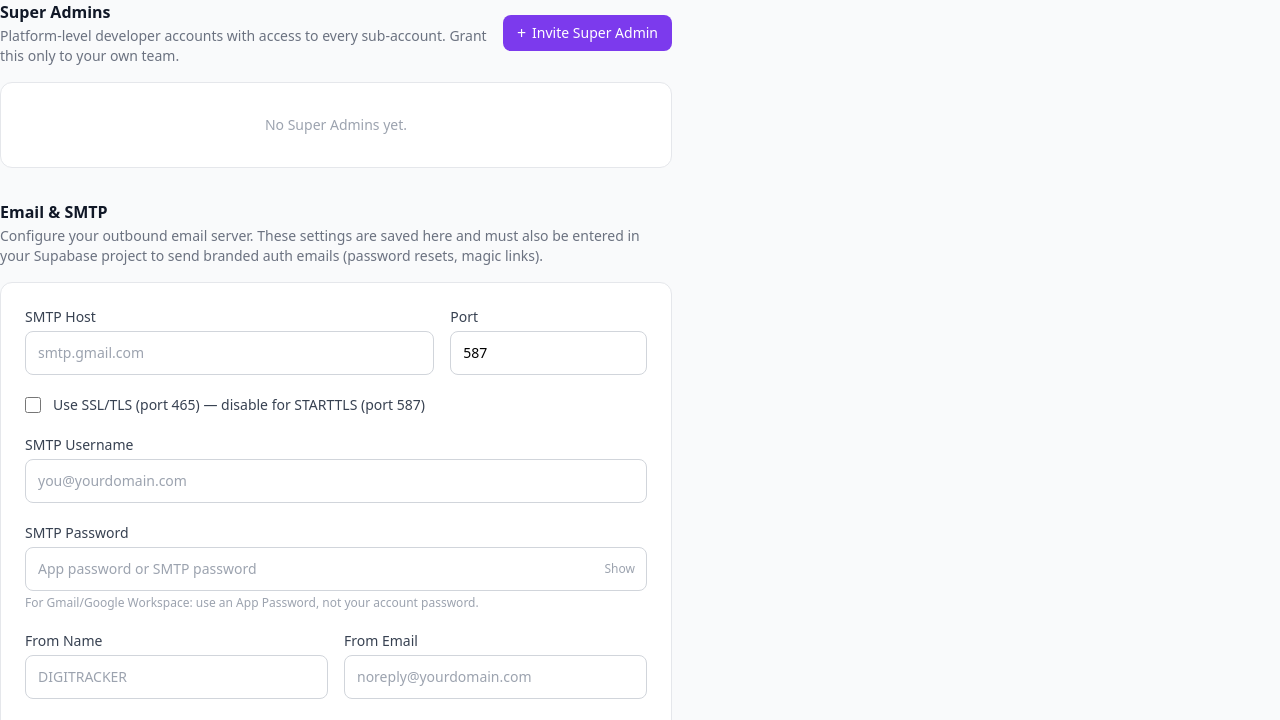
PlatformSettingsTab — invite Super-Admin sends a password-setup link, not a bare magic link › surfaces the invite-staff-user error without claiming the invite succeeded
Click the button "+ Invite Super Admin" at [588, 33], box [503,15,672,51]
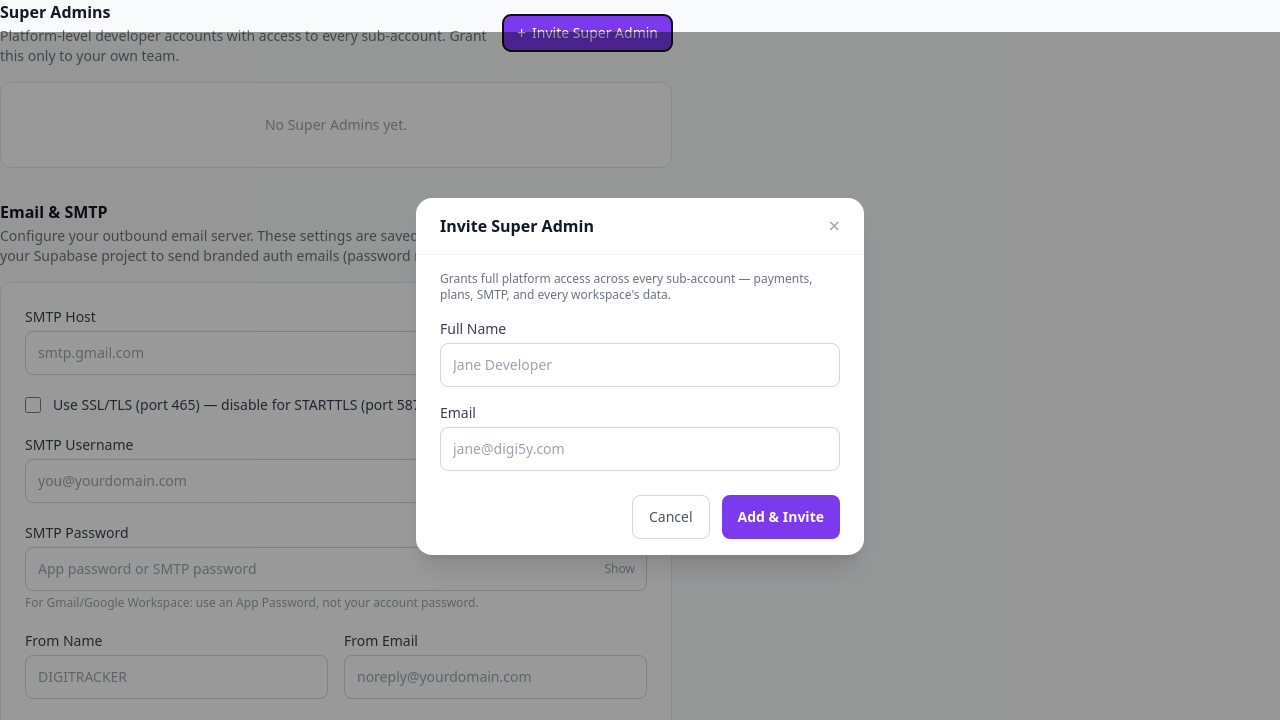
Type "New Root" into the field with placeholder "Jane Developer" at [640, 364], box [440,342,840,386]
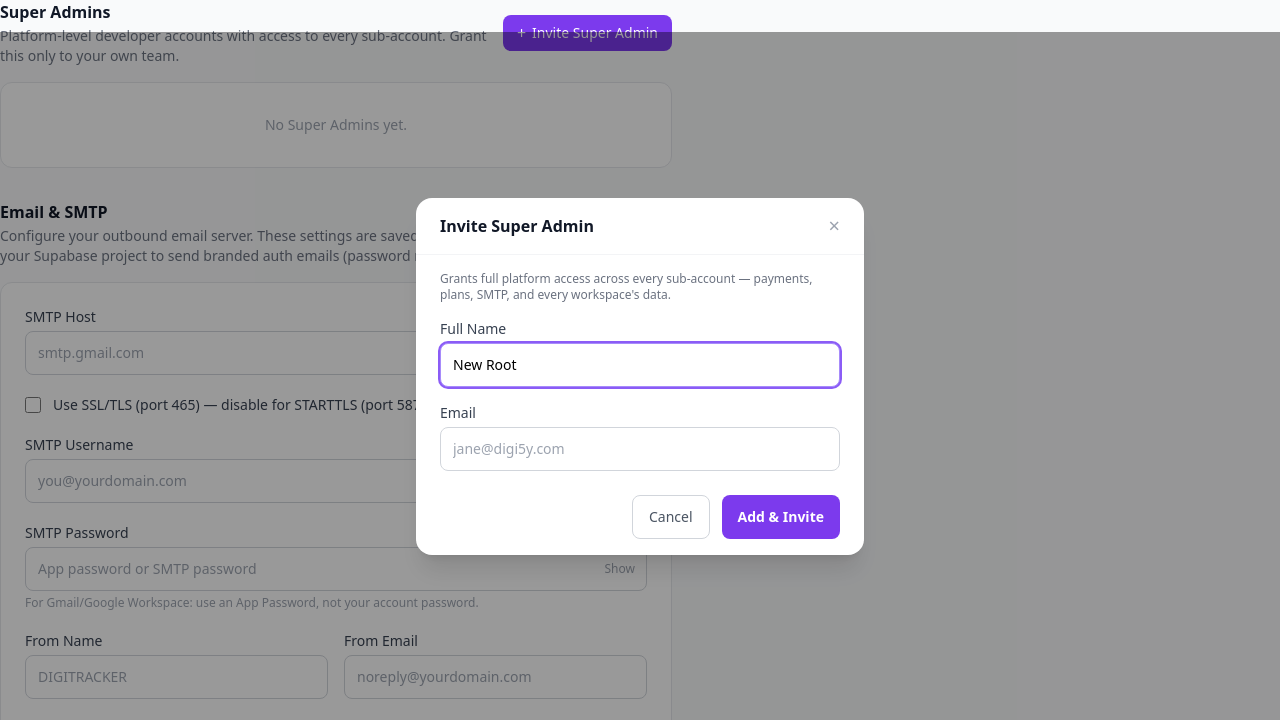
Type "new-root@digi5y.co" into the field with placeholder "jane@digi5y.com" at [640, 448], box [440,426,840,470]
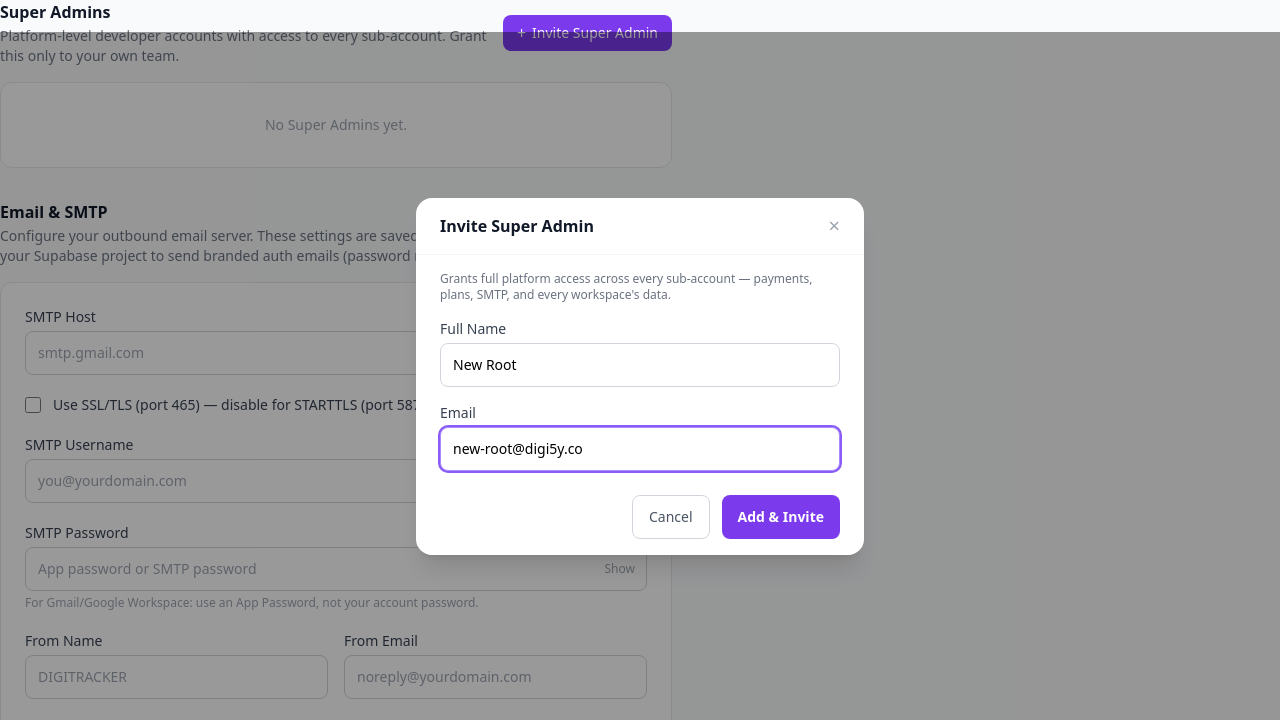
Click the button "Add & Invite" at [781, 516], box [722,494,840,538]
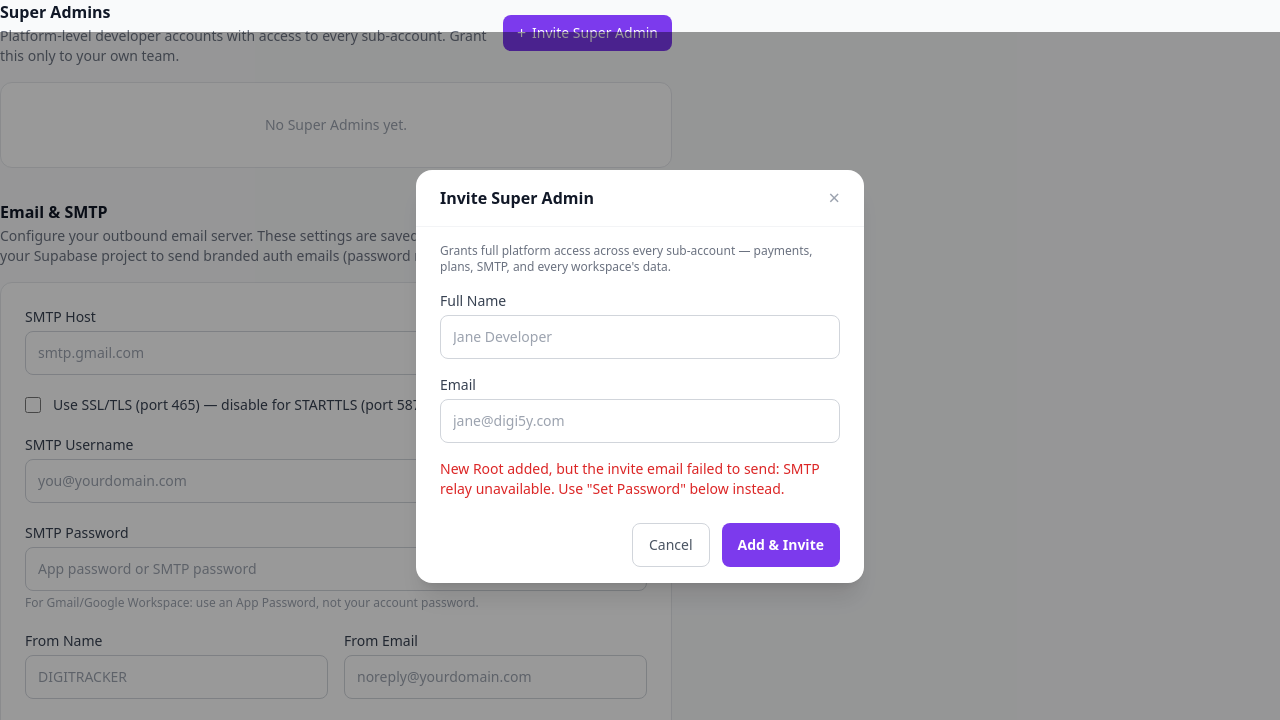
Expected: the text "SMTP relay unavailable" is shown, [440,458,820,498]
